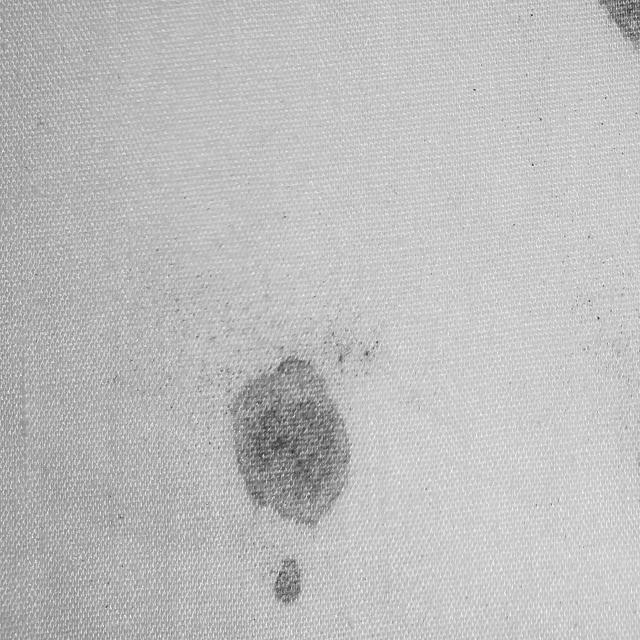Stain: (232, 357, 350, 525), (600, 0, 640, 49), (273, 556, 301, 606)
